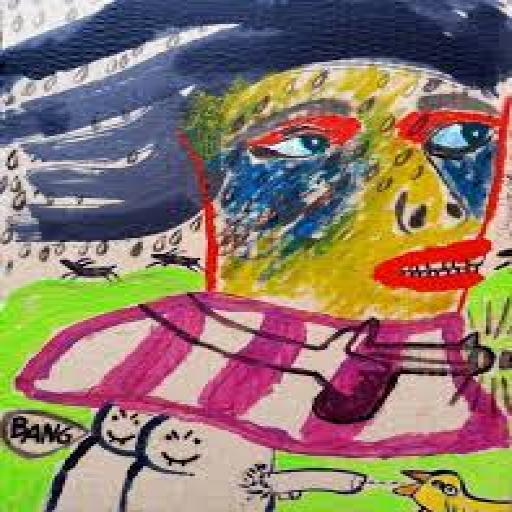person: (12, 0, 512, 410)
